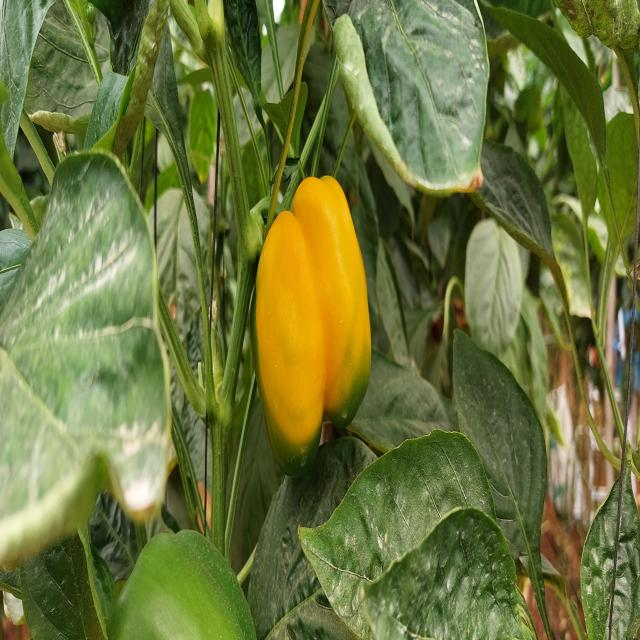Yellow-Ready-to-Harvest: (253, 171, 374, 438)
